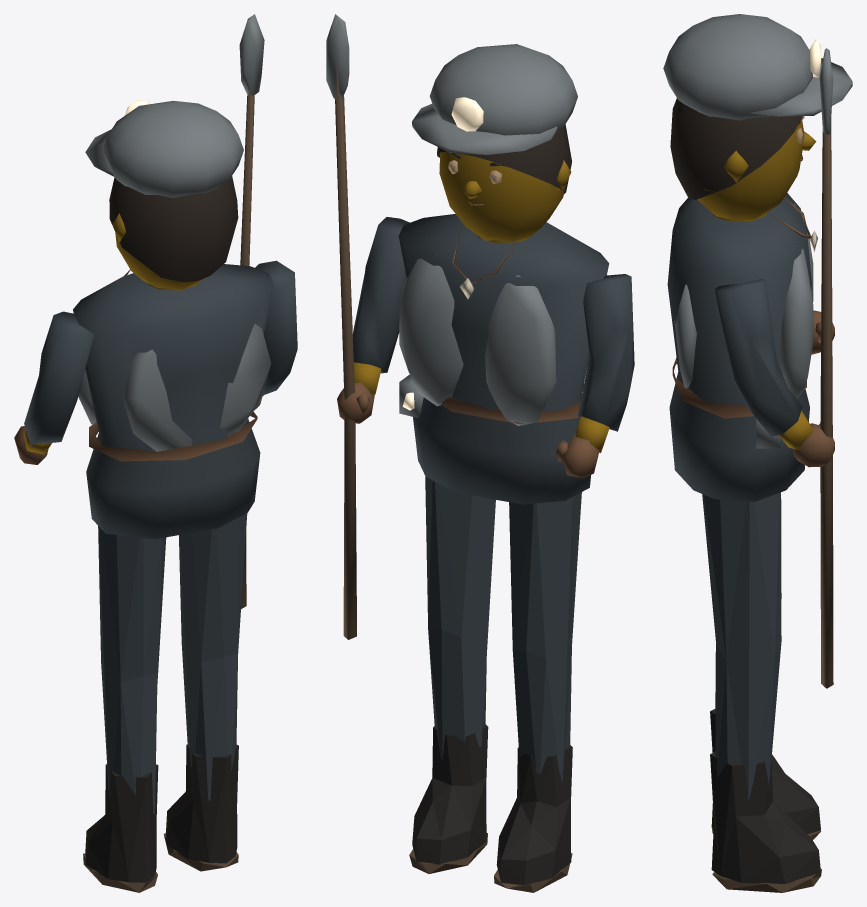
The model's file is SM_NPC_CALDERA_MEDIA.glb.
The picture shows the model from 3 angles, left to right: view 1: azimuth 30°, elevation 25°; view 2: azimuth 150°, elevation 25°; view 3: azimuth 270°, elevation 25°; orthographic projection. The views are drawn at different scales.
Visible parts, largest first — view 1: SM_NPC_CALDERA_BODY, SM_NPC_CALDERA_HEAD, SM_NPC_CALDERA_ARM_R, SM_NPC_CALDERA_ARM_L; view 2: SM_NPC_CALDERA_BODY, SM_NPC_CALDERA_HEAD, SM_NPC_CALDERA_ARM_R, SM_NPC_CALDERA_ARM_L; view 3: SM_NPC_CALDERA_BODY, SM_NPC_CALDERA_HEAD, SM_NPC_CALDERA_ARM_R, SM_NPC_CALDERA_ARM_L.
Part boxes in pixels (box(x1,y1,x2,y2)): SM_NPC_CALDERA_BODY: box(73, 264, 273, 892); SM_NPC_CALDERA_HEAD: box(85, 99, 243, 289); SM_NPC_CALDERA_ARM_R: box(239, 14, 297, 608); SM_NPC_CALDERA_ARM_L: box(14, 311, 94, 464); SM_NPC_CALDERA_BODY: box(398, 214, 609, 892); SM_NPC_CALDERA_HEAD: box(412, 44, 577, 242); SM_NPC_CALDERA_ARM_R: box(326, 14, 409, 639); SM_NPC_CALDERA_ARM_L: box(555, 274, 634, 478); SM_NPC_CALDERA_BODY: box(667, 193, 821, 892); SM_NPC_CALDERA_HEAD: box(663, 14, 852, 220); SM_NPC_CALDERA_ARM_R: box(714, 48, 834, 688); SM_NPC_CALDERA_ARM_L: box(811, 310, 834, 354).
Bounding box in the file's own units: 0.704 × 2.07 × 0.4062.
